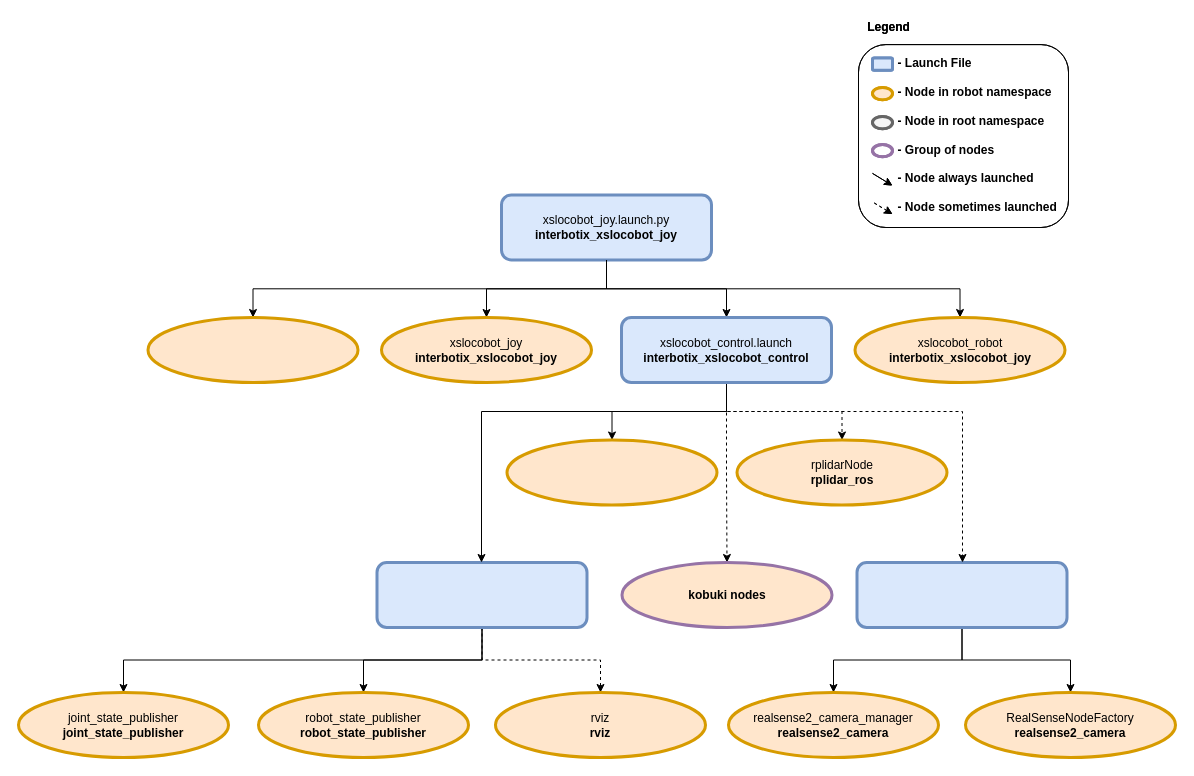
This 1194x776 diagram has some shape labels left out. Each missing label, with the box of its shape:
joy_node joy: (146, 316, 359, 384)
rs_camera.launch realsense2_camera: (855, 560, 1068, 628)
xs_sdk interbotix_xs_sdk: (505, 438, 718, 506)
xslocobot_description.launch interbotix_xslocobot_descriptions: (375, 560, 588, 628)
